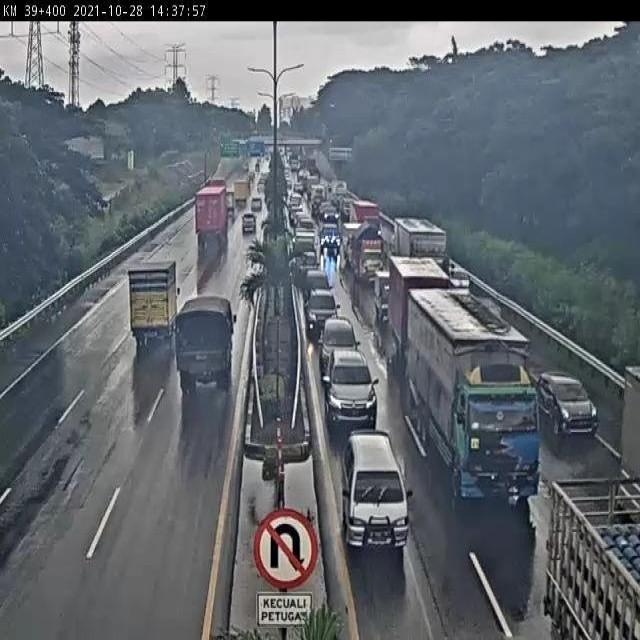car: (538, 369, 598, 444), (318, 220, 343, 251)
truck-l-: (405, 285, 542, 499)
truck-m-: (176, 297, 231, 391), (129, 262, 178, 342)
truck-xl-: (196, 186, 230, 246)
